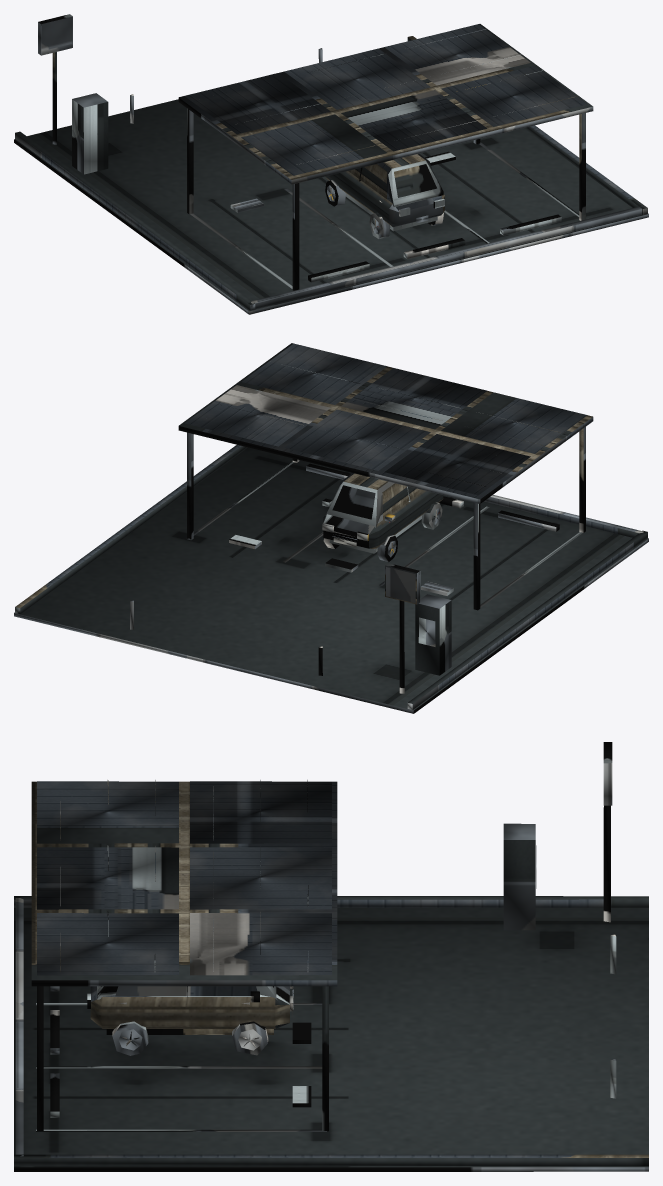
Rendered from parking_002.lod1.obj.
3 views of the same model, one above another, from view 1: azimuth 30°, elevation 25°; view 2: azimuth 150°, elevation 25°; view 3: azimuth 270°, elevation 25° (orthographic). The views are drawn at different scales.
Visible parts, largest first — view 1: parking_002; view 2: parking_002; view 3: parking_002.
Part boxes in pixels (box(x1,y1,x2,y2)): parking_002: box(14, 14, 648, 314); parking_002: box(14, 343, 648, 713); parking_002: box(14, 742, 648, 1171).
Size of the model in its own units: 10.6 by 3.25 by 10.8.
Materials: 1 (1 with a texture image).
